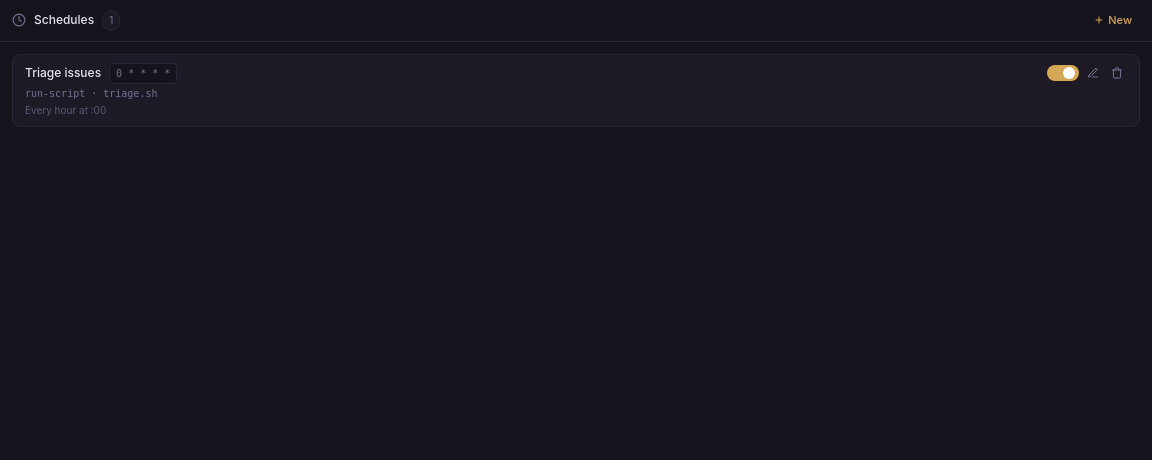
Test case: SchedulerPanel › opens edit form pre-populated with the current action + script name
Click the button with test id "schedule-edit-btn" at (1093, 72), box [1083,62,1103,82]
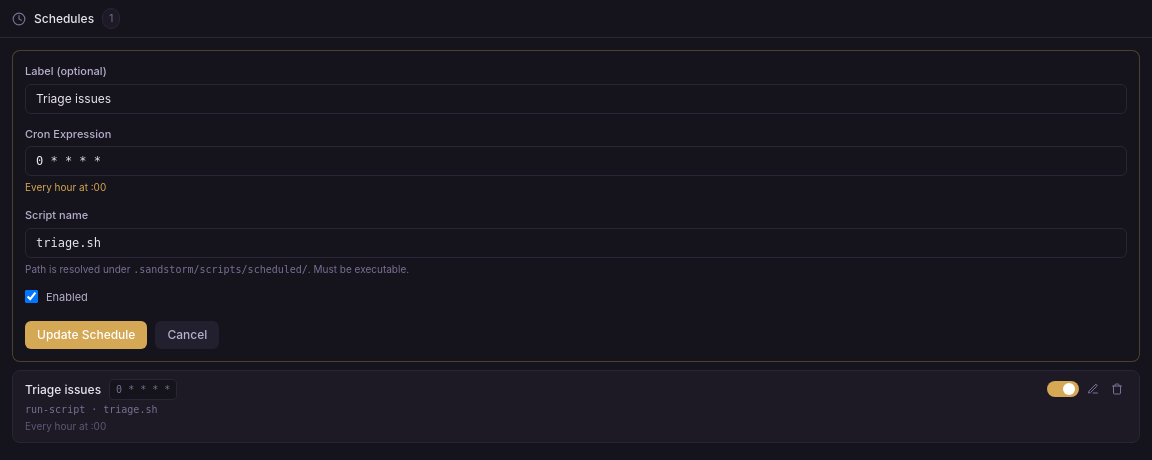
Expected: the form with test id "schedule-form" is shown, [25,63,1127,349]
Expected: the field with test id "schedule-cron-input" holds "0 * * * *", [25,146,1127,176]
Expected: the field with test id "schedule-script-name" holds "triage.sh", [25,228,1127,258]
